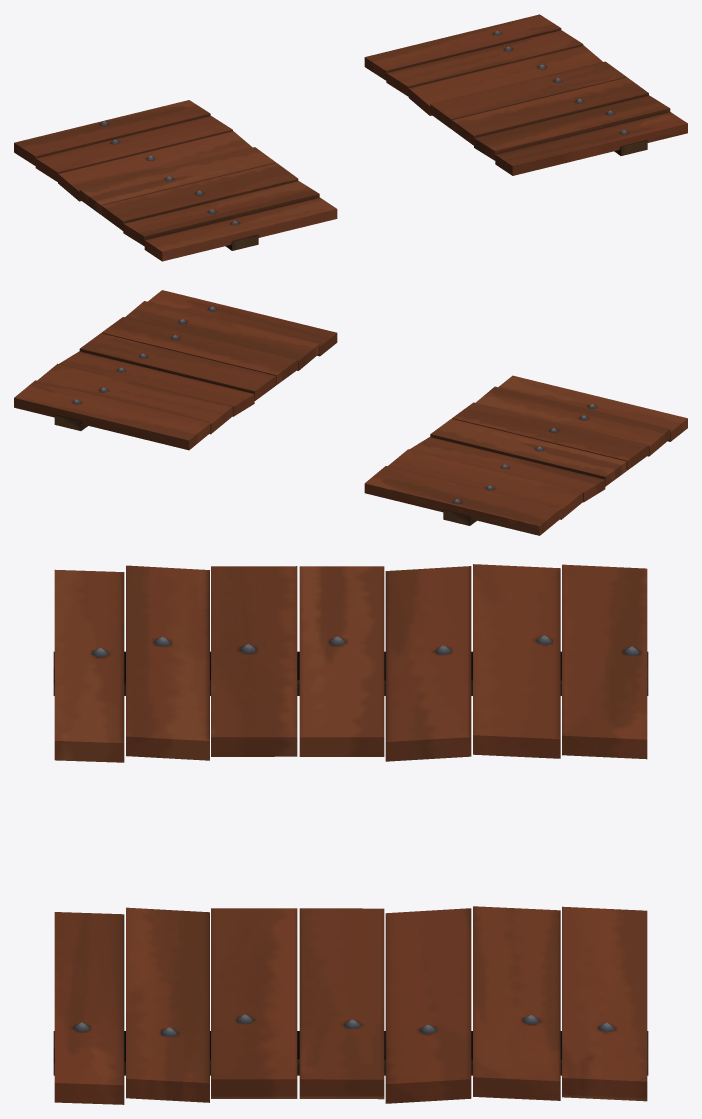
Rendered from 1P_SolEtage-10O.FBX.
The picture shows the model from 3 angles, top to bottom: view 1: azimuth 30°, elevation 25°; view 2: azimuth 150°, elevation 25°; view 3: azimuth 270°, elevation 25°; orthographic projection. The views are drawn at different scales.
Parts seen in each view (by area): view 1: 1P_SolEtage-10O; view 2: 1P_SolEtage-10O; view 3: 1P_SolEtage-10O.
Boxes of the visible parts, x1,y1,x2,y2 form: 1P_SolEtage-10O: (14, 14, 687, 261); 1P_SolEtage-10O: (14, 290, 687, 535); 1P_SolEtage-10O: (53, 564, 648, 1104).
Size of the model in its own units: 20.42 by 0.7754 by 10.
